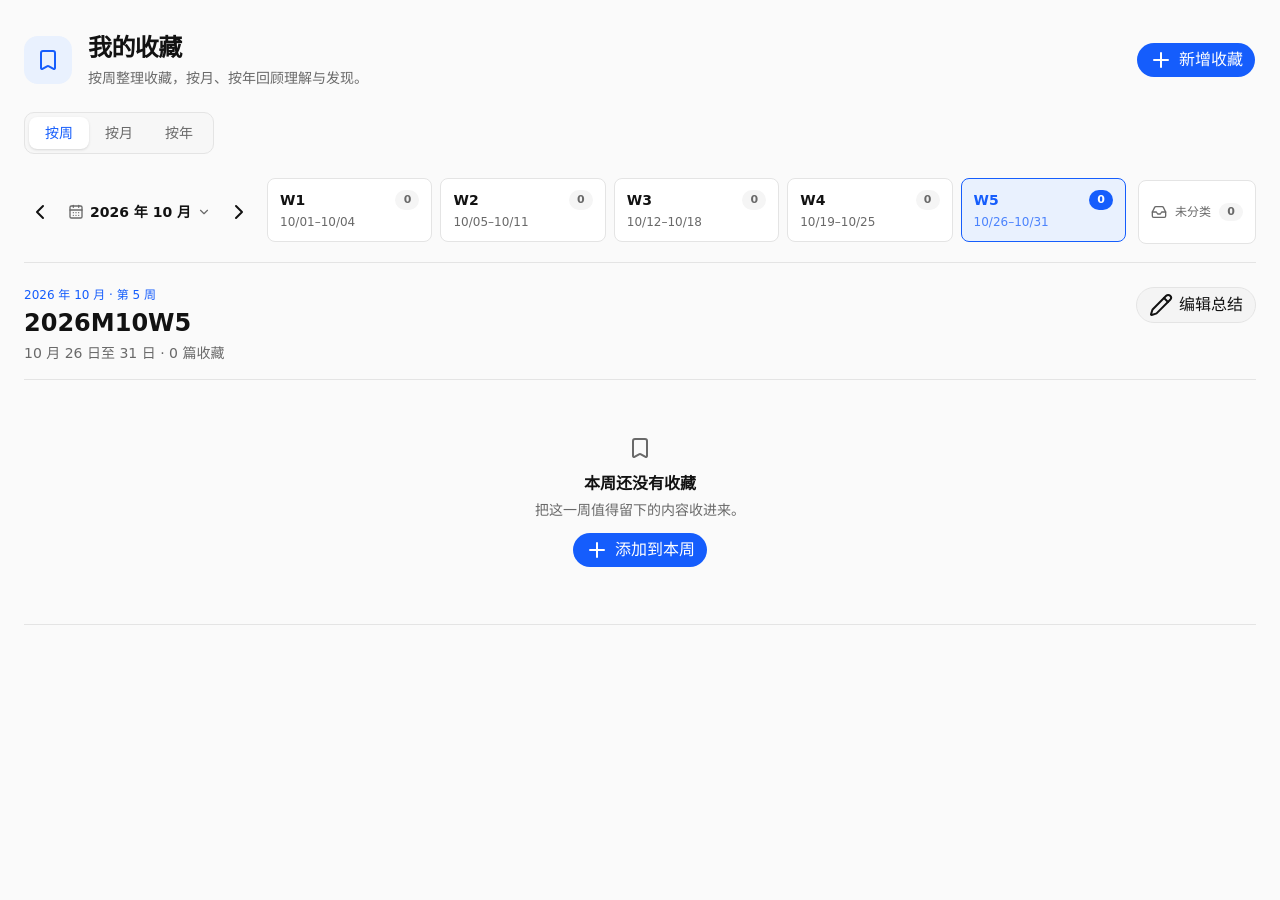
weekly collections › jumps directly to a month from the month picker
Click the button "2026 年 10 月" at (140, 212), box [60,194,219,230]
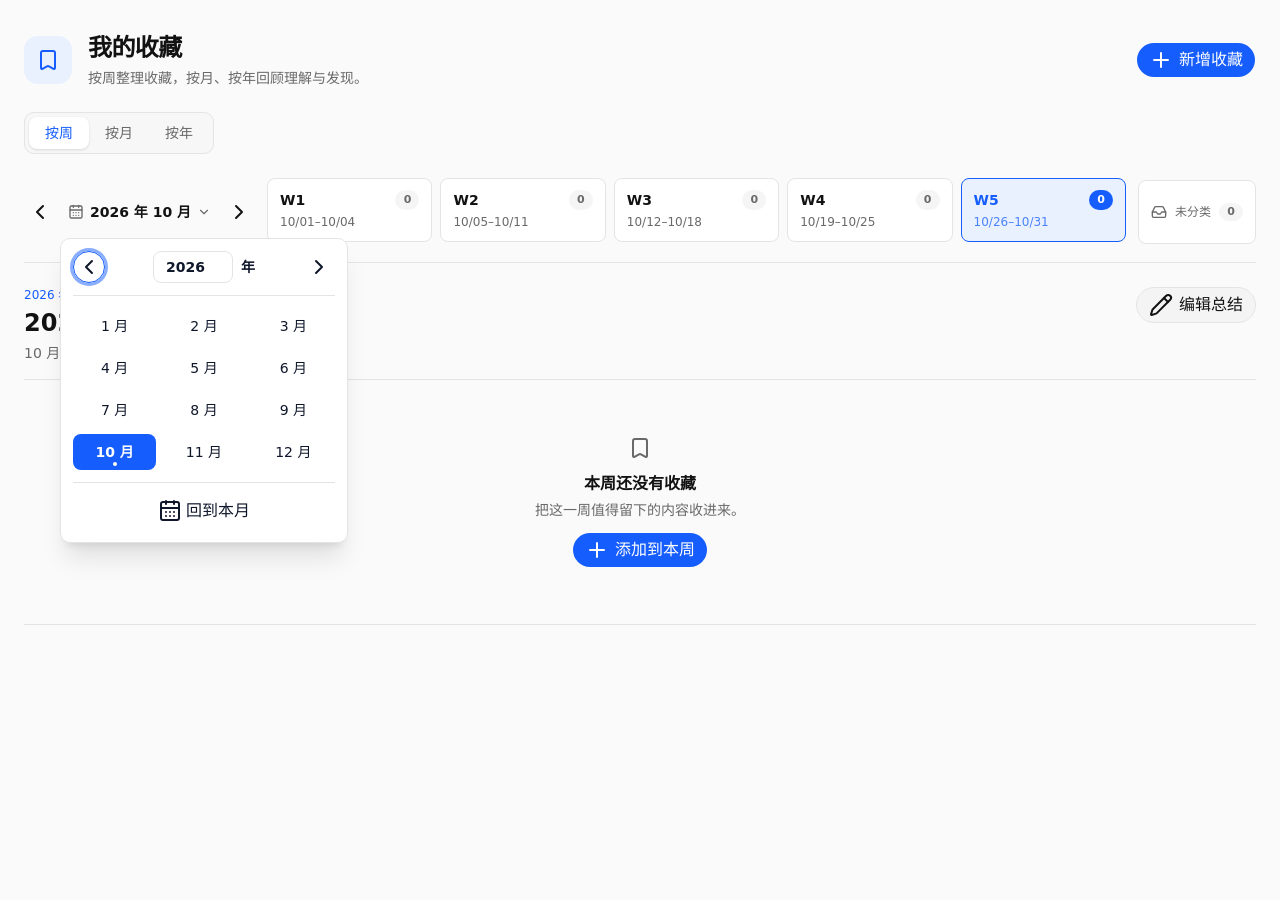
Now the number field named "年份" holds "2026", box [153,251,233,283]
Click the button "1 月" at (115, 326), box [73,308,156,344]
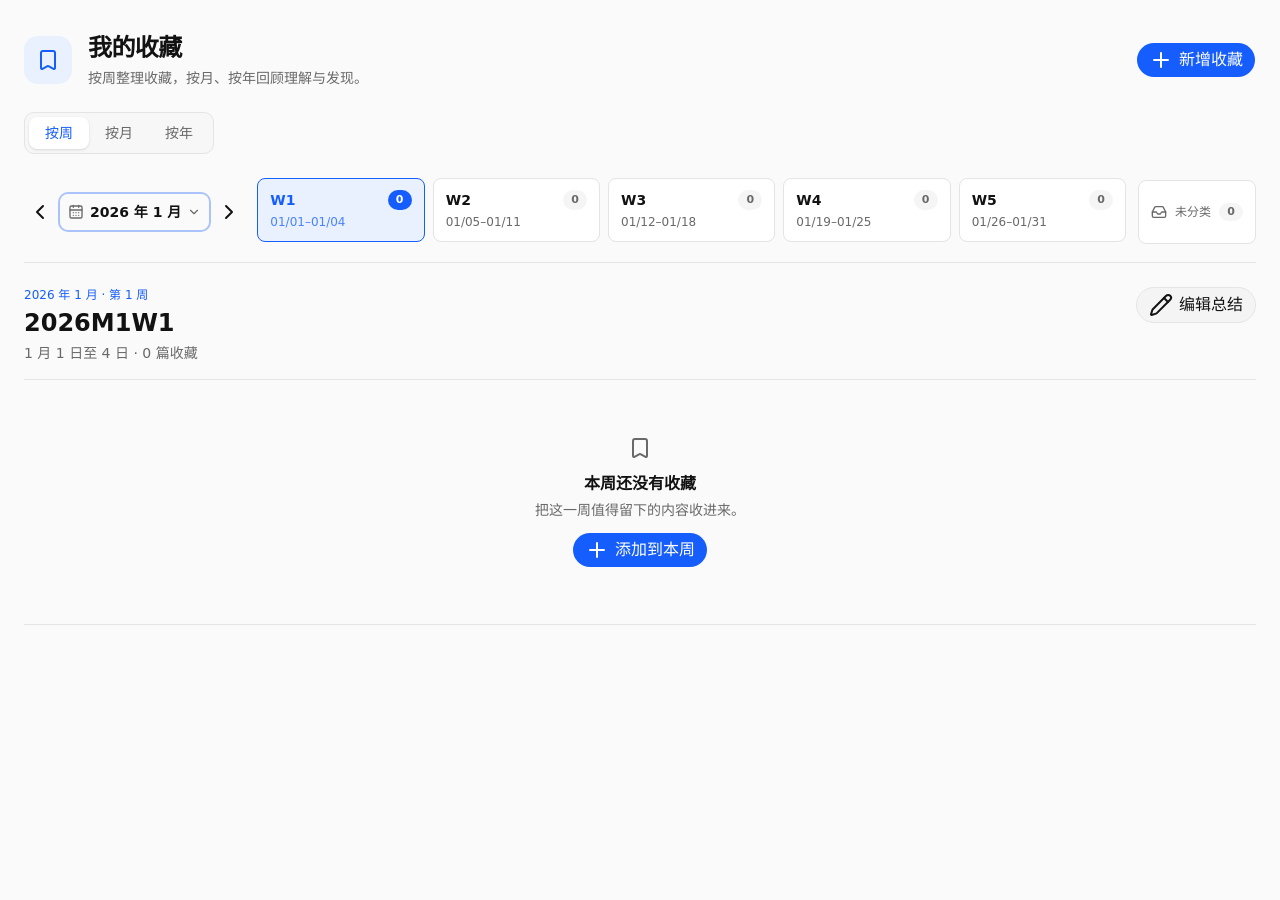
Now the dialog "选择月份" is gone
